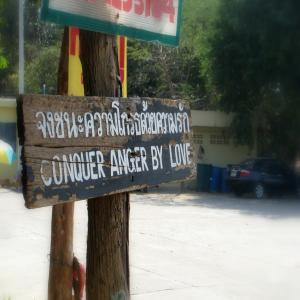Vehicle-registration-plate: (232, 171, 238, 178)
